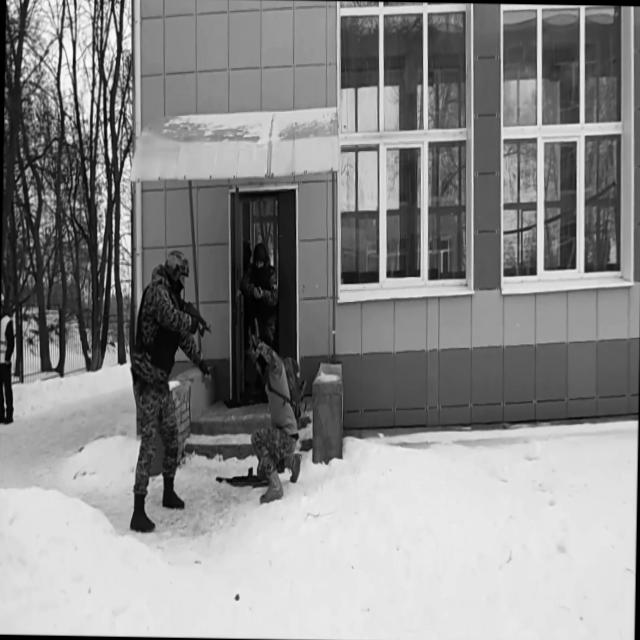gun: (170, 292, 213, 338), (214, 464, 270, 492)
person: (245, 314, 303, 505), (239, 242, 278, 399), (0, 297, 15, 428)
person with a gun: (128, 247, 215, 534)
